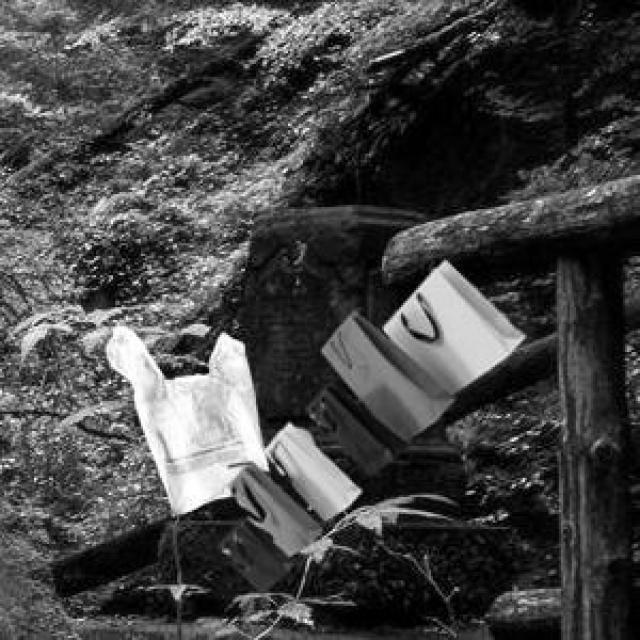paper: (216, 256, 521, 589)
